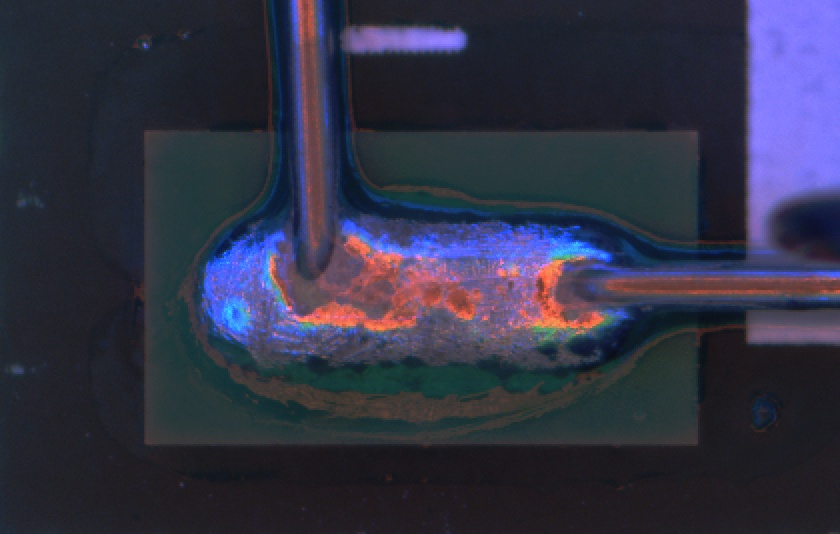spring: (264, 1, 348, 291), (558, 249, 840, 328)
spring_pin: (199, 197, 650, 375)
